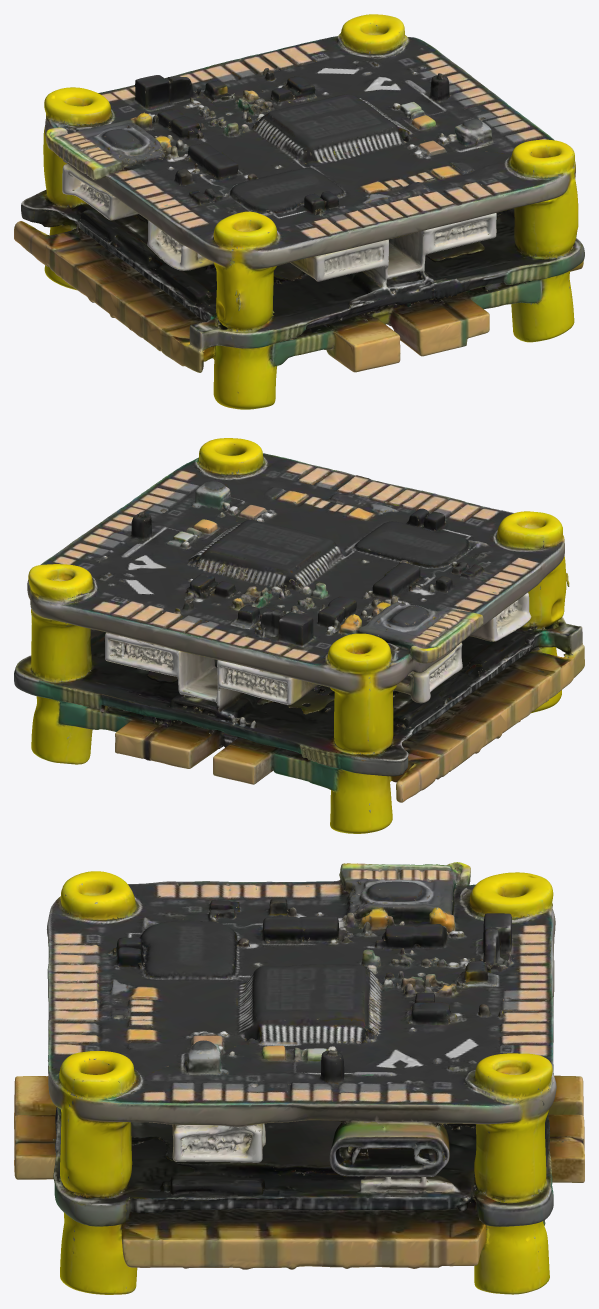
The model's file is stack.glb.
The picture shows the model from 3 angles, top to bottom: view 1: azimuth 30°, elevation 25°; view 2: azimuth 150°, elevation 25°; view 3: azimuth 270°, elevation 25°; orthographic projection. The views are drawn at different scales.
Size of the model in its own units: 2 by 0.92 by 2.
1 material, 1 textured.
